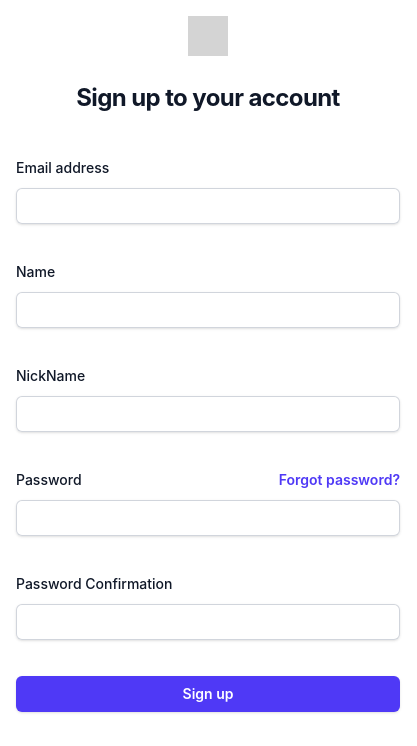
Test case: 회원가입 테스트 › 비밀번호 형식을 확인한다 › 공백은 특수문자로 인정하지 않는다
# 특수문자 대신 끝 공백만 포함
Type "Password123 " into the password field labelled "Password" at (208, 518), box top-left (16, 500), bottom-right (400, 536)
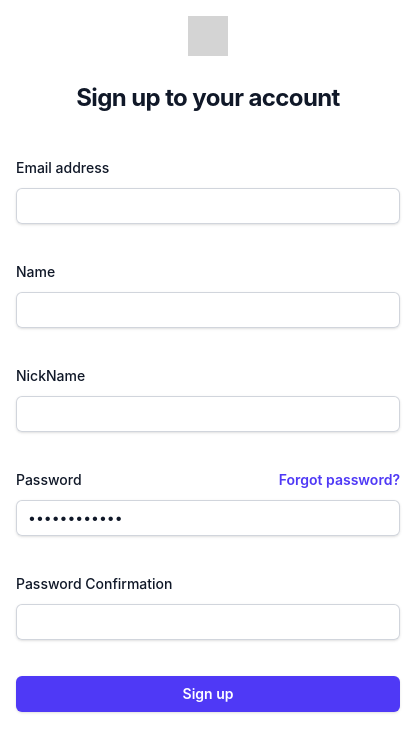
Submit the form from the button with test id "submit-button", box top-left (16, 676), bottom-right (400, 712)
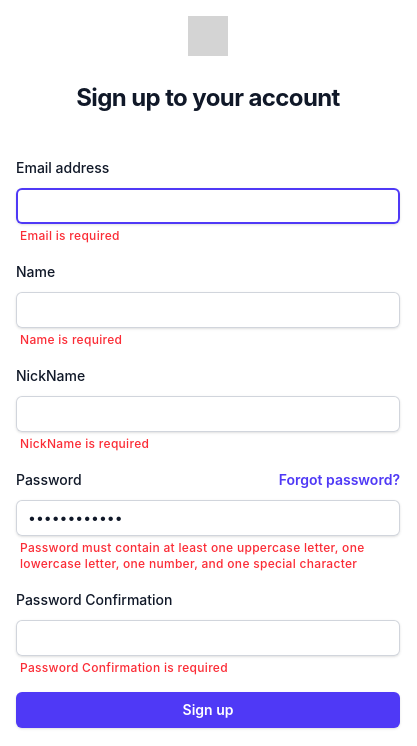
Result: the text "Password must contain at least one uppercase letter, one lowercase letter, one number, and one special character" is shown at top-left (20, 540), bottom-right (364, 571)
